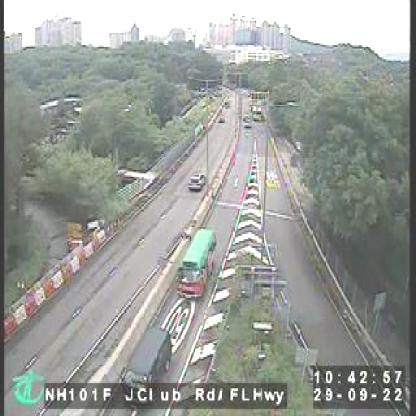Car: (120, 328, 178, 400), (188, 168, 210, 193), (242, 113, 249, 128)
Minibus: (173, 229, 218, 300)
